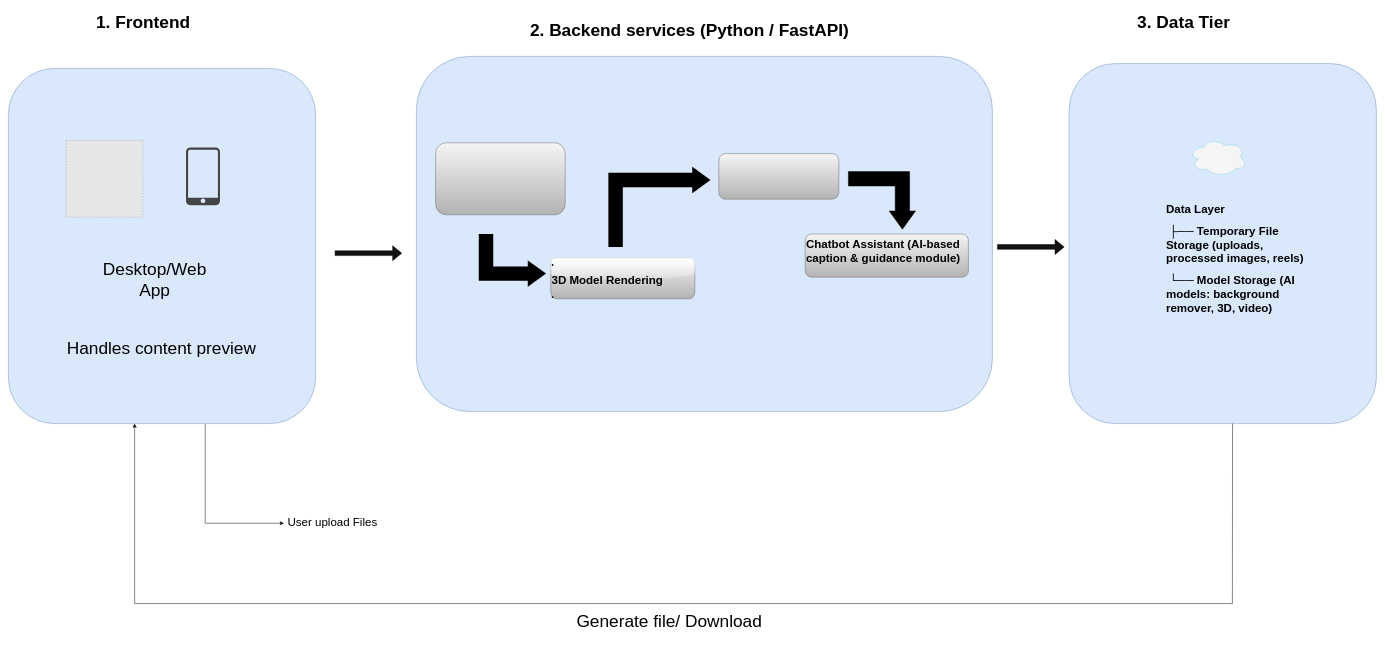
Some shapes in this 1385 by 670 pixel diagram are drawn without their labels. Grey dashed boxes stand in for pictures. Each missing label, with the centre of its shape:
"Processing Module (background removal + enhancement)" belongs at point 500,178.
"Reel Generation Service" belongs at point 778,176.
